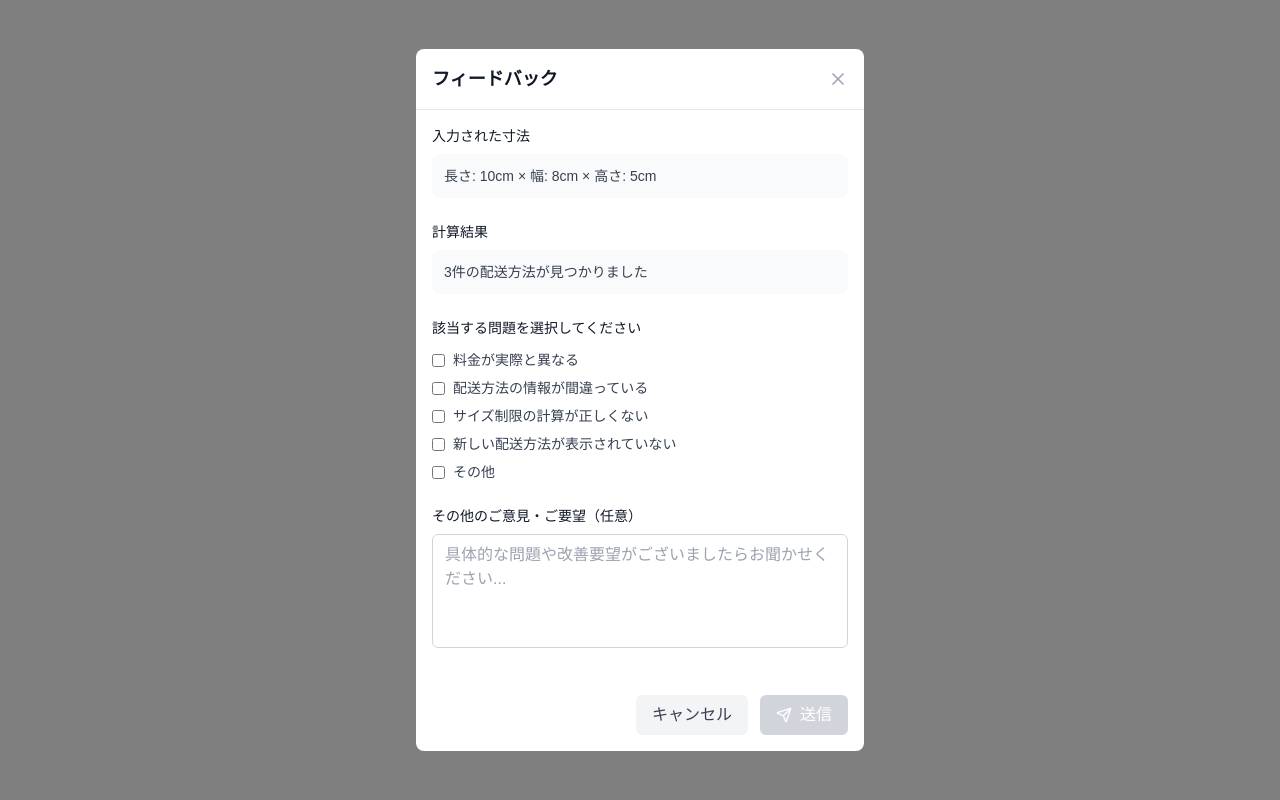
Test case: FeedbackModal › enables submit button when feedback is selected
Check: the button "送信" is disabled, box [760, 695, 848, 735]
Click the checkbox labelled "料金が実際と異なる" at (438, 360), box [432, 354, 445, 366]
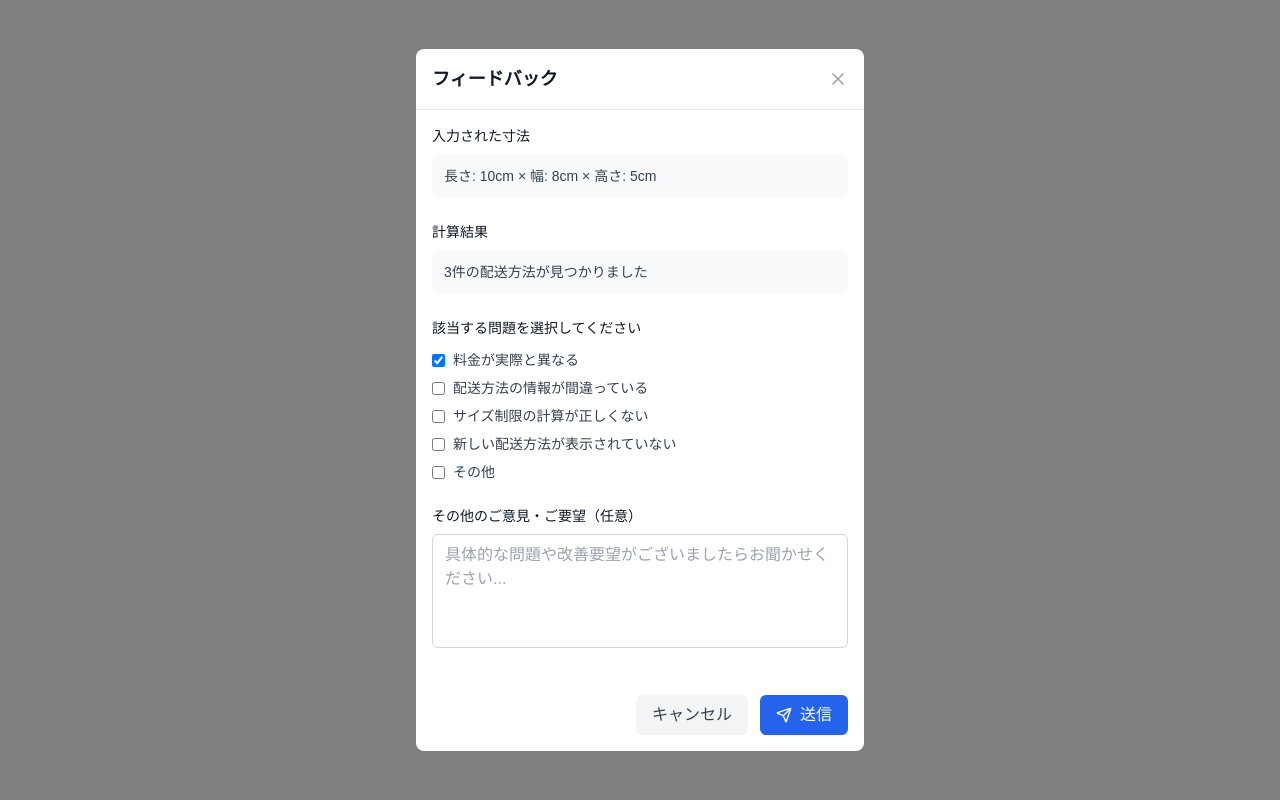
Check: the button "送信" is enabled, box [760, 695, 848, 735]
